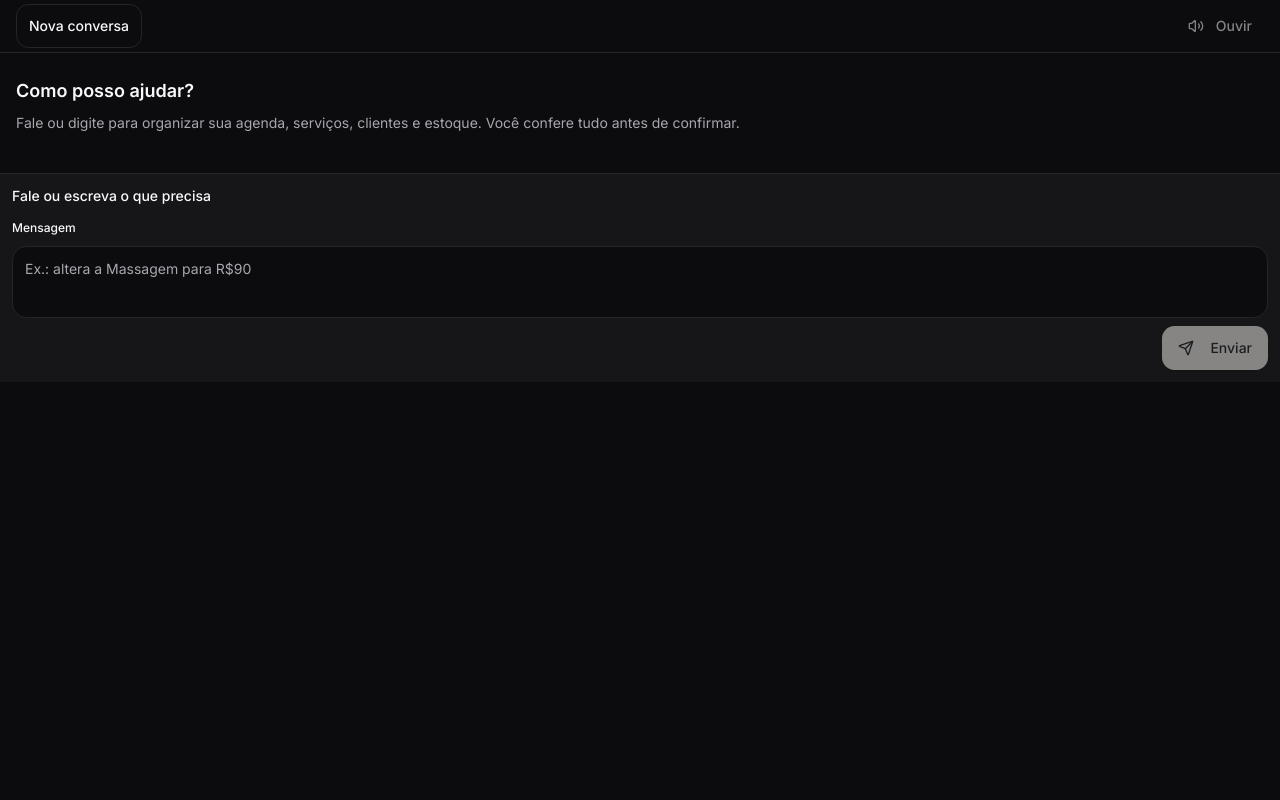
Scenario: a refusal while understanding is the reply of that turn (copy on) › the error text is the Secretária bubble of the sent message; no red banner; the typed text stays in the box
Click the button "Nova conversa" at (79, 26), box [16, 4, 142, 48]
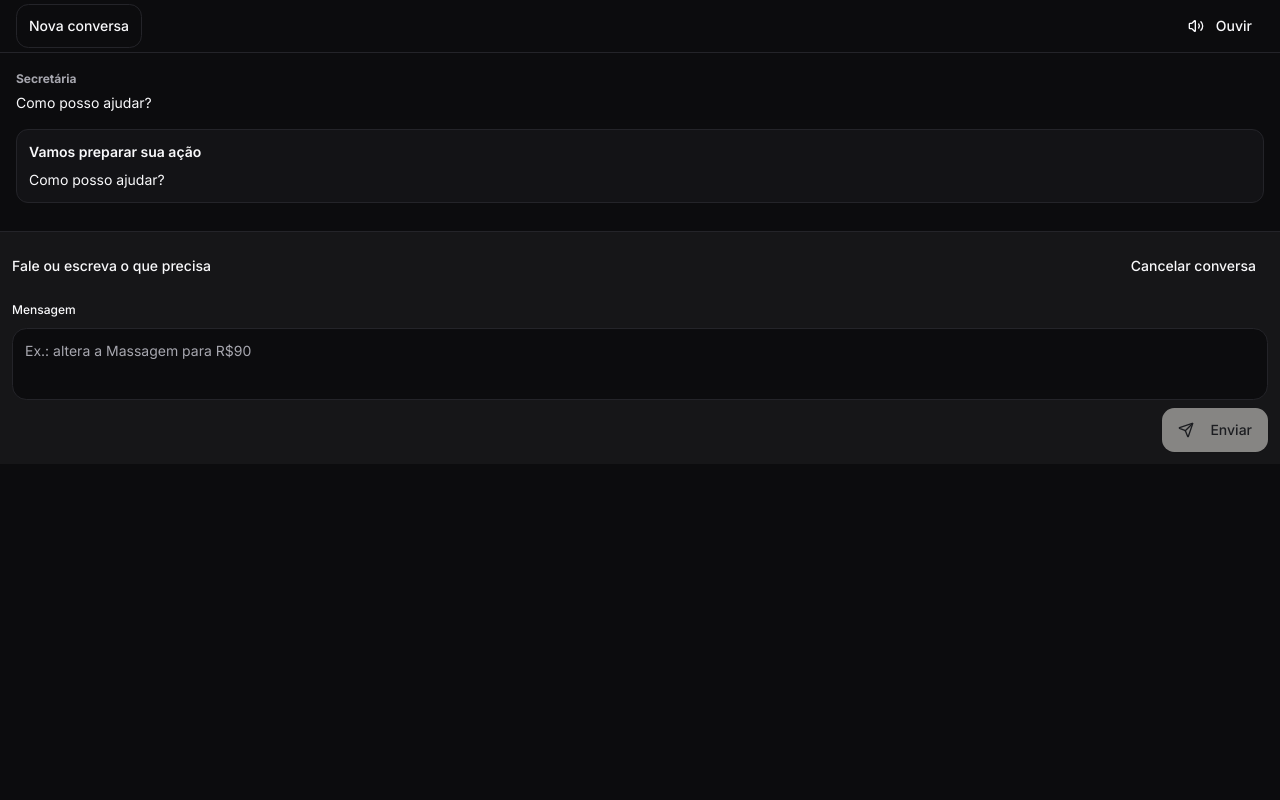
Type "passa a yara pra sexta e põe a lívia no lugar" into the text box labelled "Mensagem" at (640, 364), box [12, 328, 1268, 400]
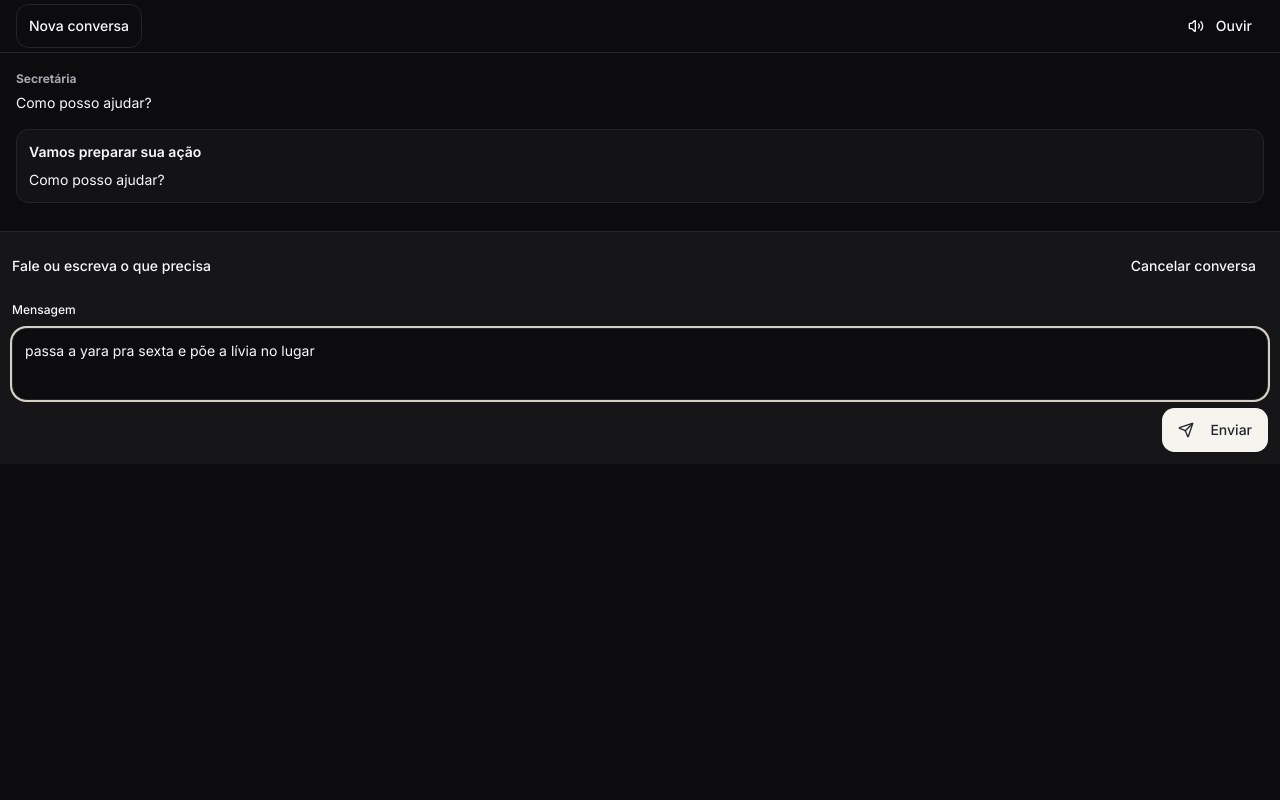
Click the button "Enviar" at (1215, 430), box [1162, 408, 1268, 452]
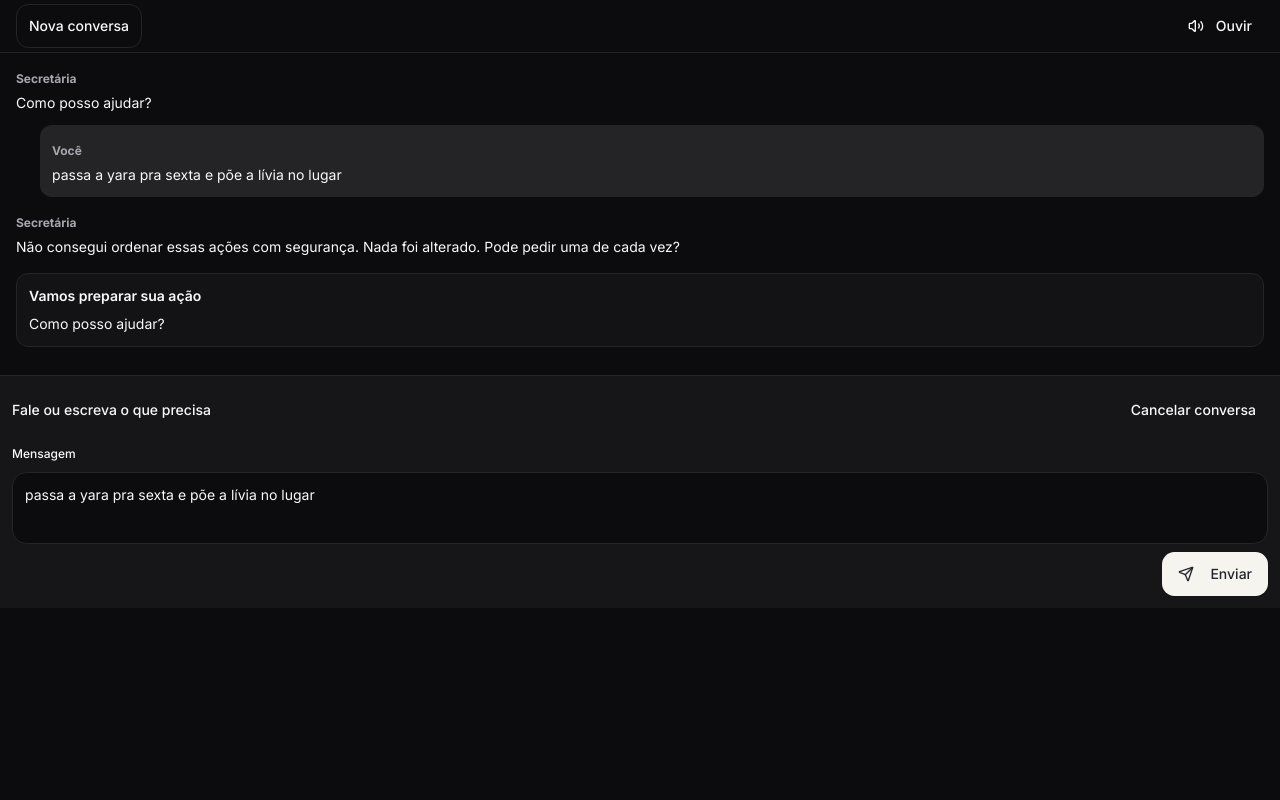
Now the text "passa a yara pra sexta e põe a lívia no lugar" is shown, box [52, 166, 342, 183]
Now the text "Não consegui ordenar essas ações com segurança. Nada foi alterado. Pode pedir uma de cada vez?" is shown, box [16, 238, 680, 255]
